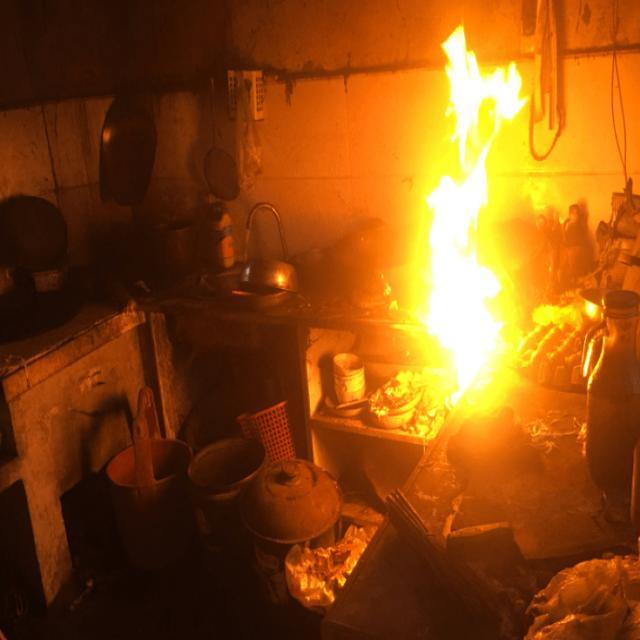Fire: (424, 24, 530, 406)
